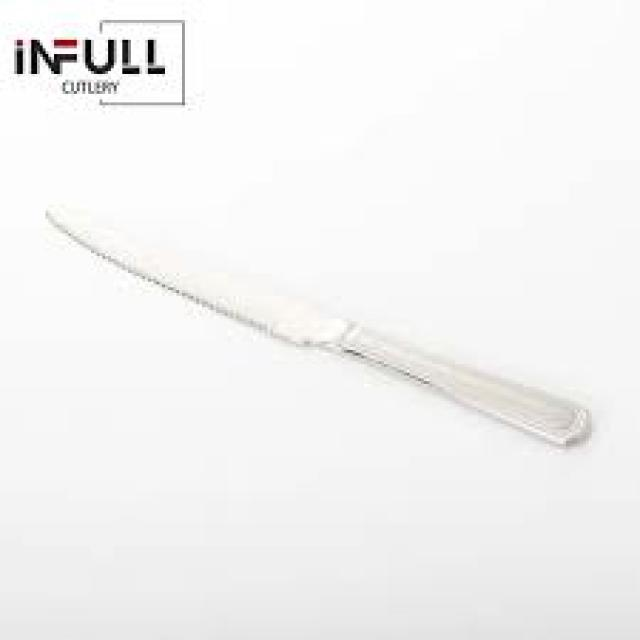Knife: (48, 210, 592, 444)
